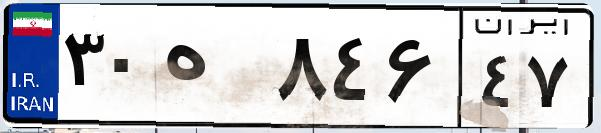0: (110, 28, 158, 98)
3: (57, 26, 110, 100)
4: (330, 28, 385, 110), (475, 38, 525, 113)
6: (385, 28, 445, 110)
7: (525, 38, 570, 115)
8: (270, 28, 330, 110)
ه: (158, 20, 270, 120)
